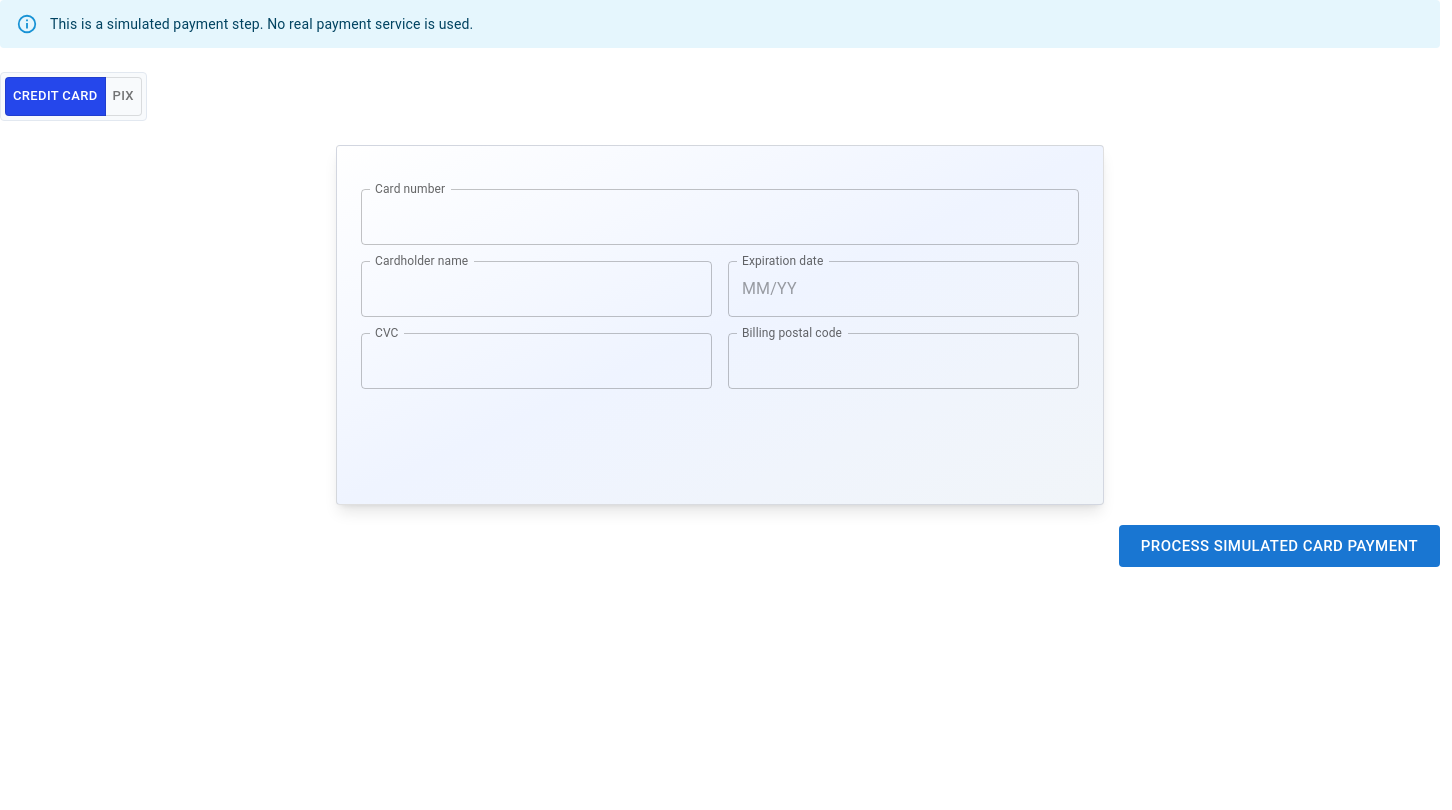
payment UI › shows a warning when simulated card processing is refused
Type "Alex Test" into the field labelled "Cardholder name" at (536, 289), box 361,261 -> 712,317
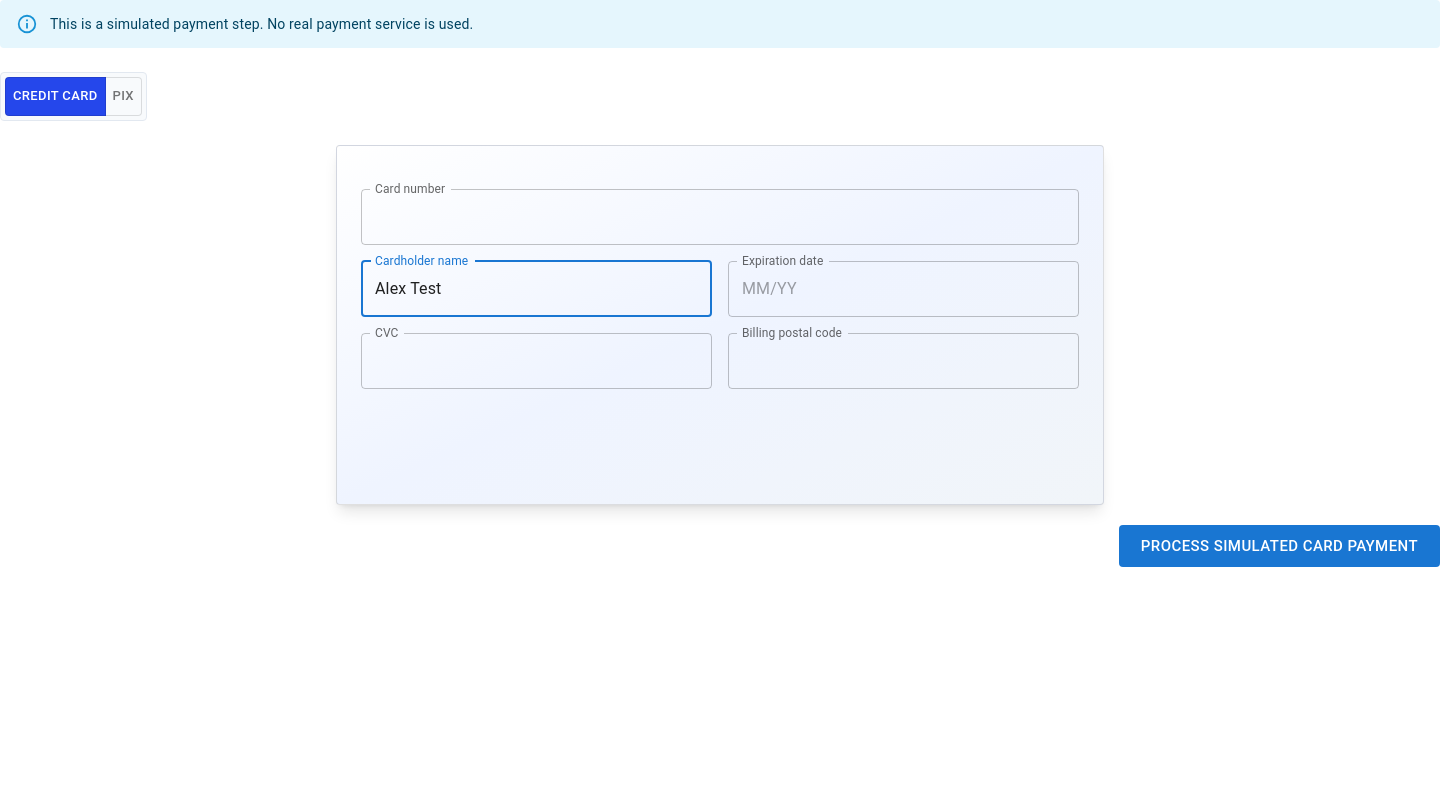
Type "4111111111111111" into the field labelled "Card number" at (720, 217), box 361,189 -> 1079,245
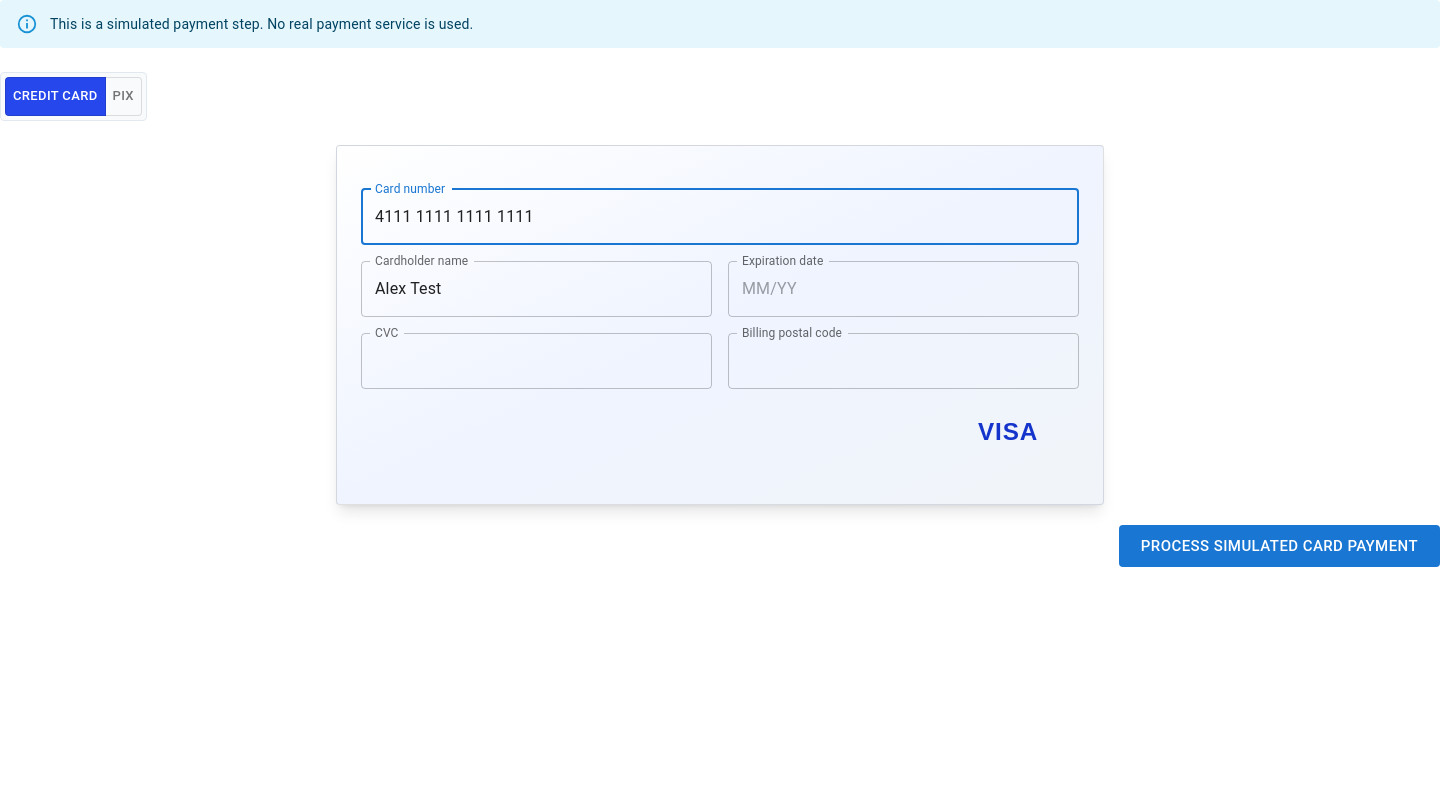
Type "12/35" into the field labelled "Expiration date" at (904, 289), box 728,261 -> 1079,317
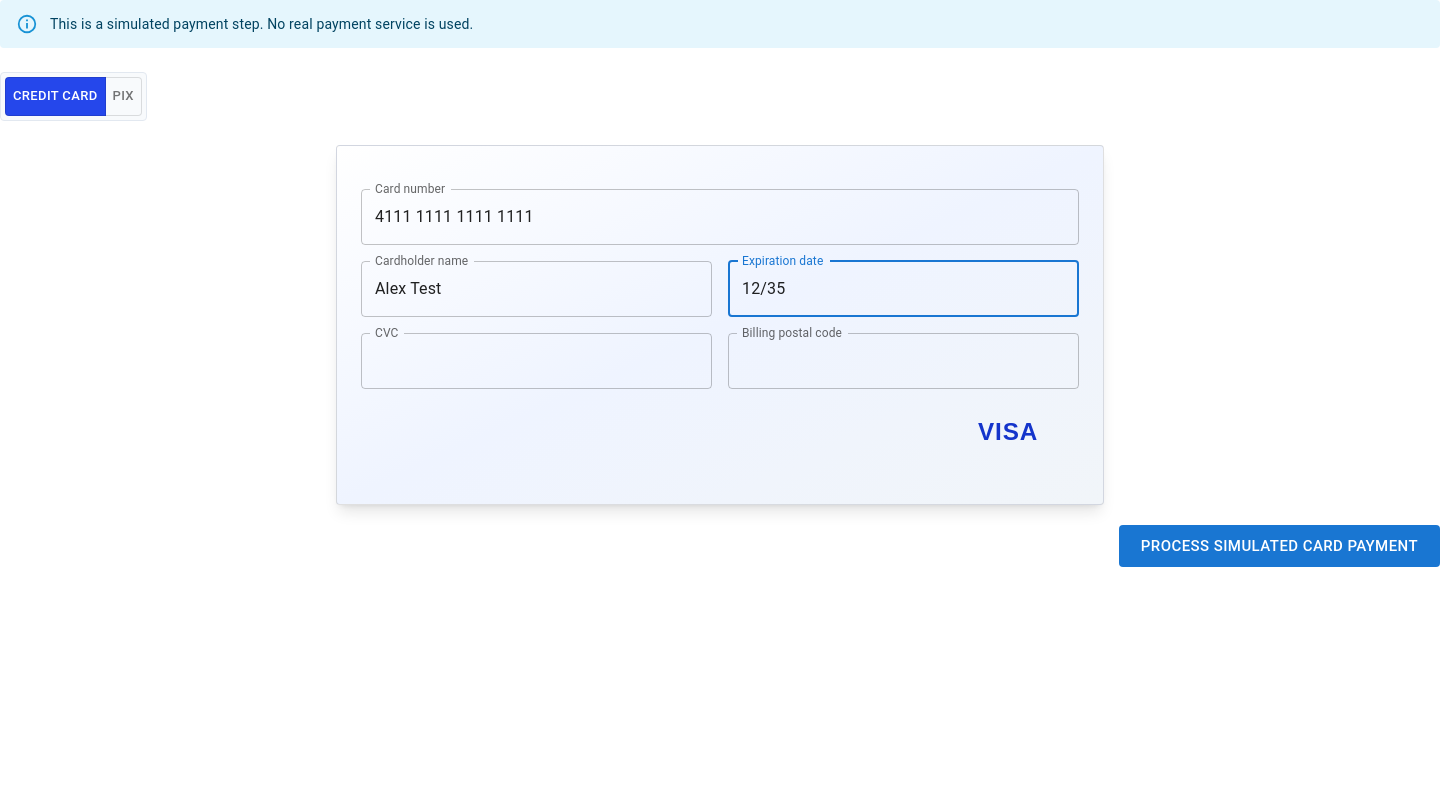
Type "123" into the password field labelled "CVC" at (536, 361), box 361,333 -> 712,389
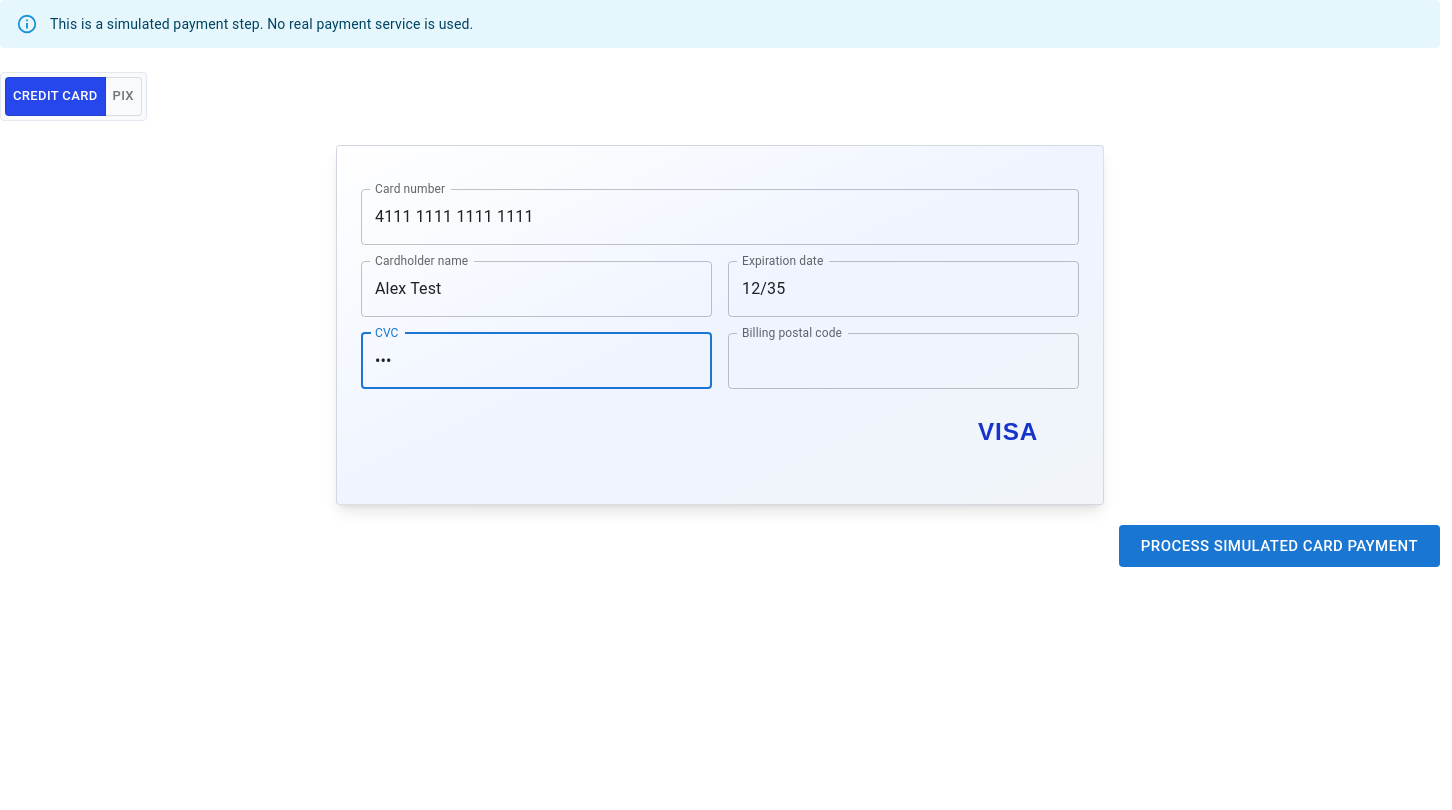
Type "10001" into the field labelled "Billing postal code" at (904, 361), box 728,333 -> 1079,389
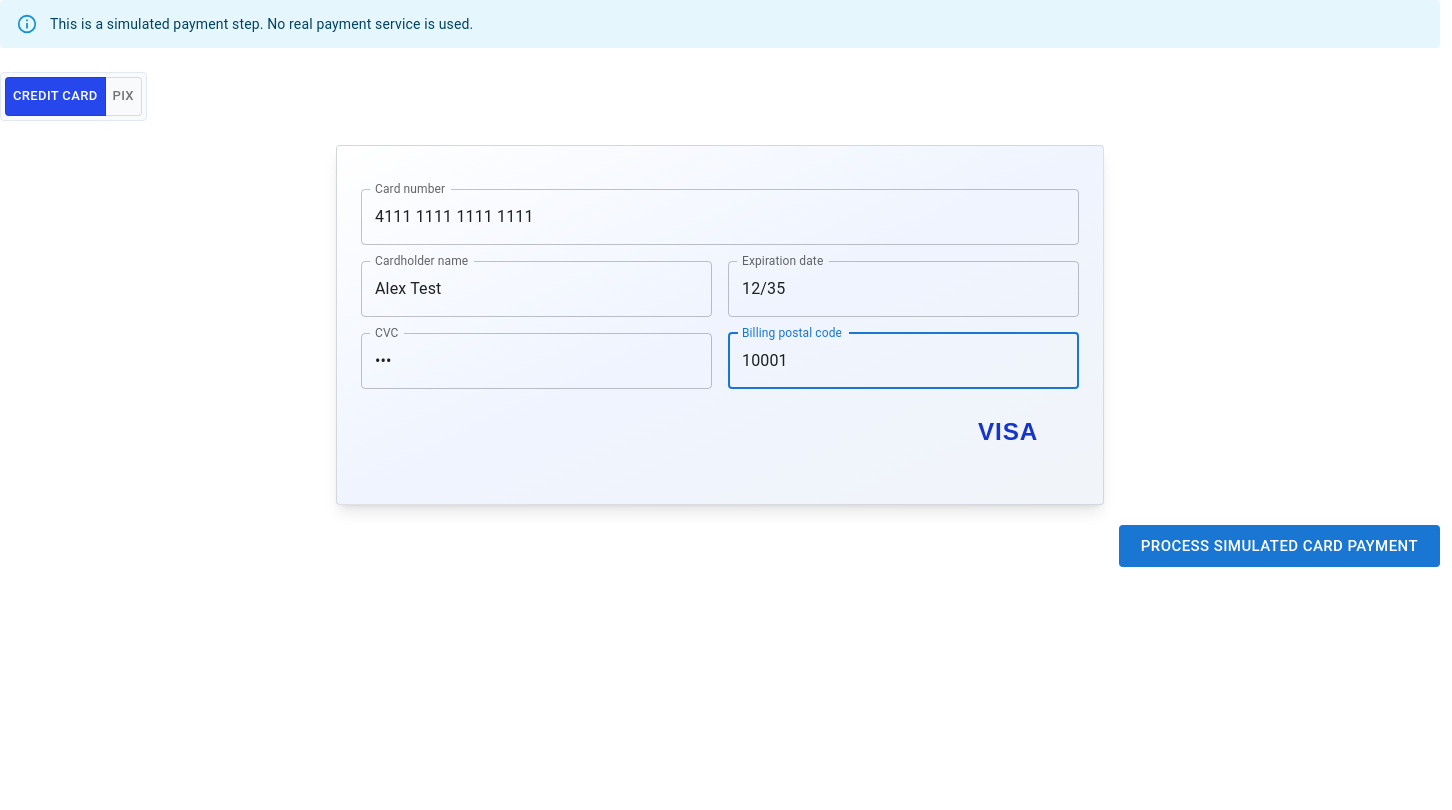
Click the button "Process simulated card payment" at (1279, 546), box 1119,525 -> 1440,567
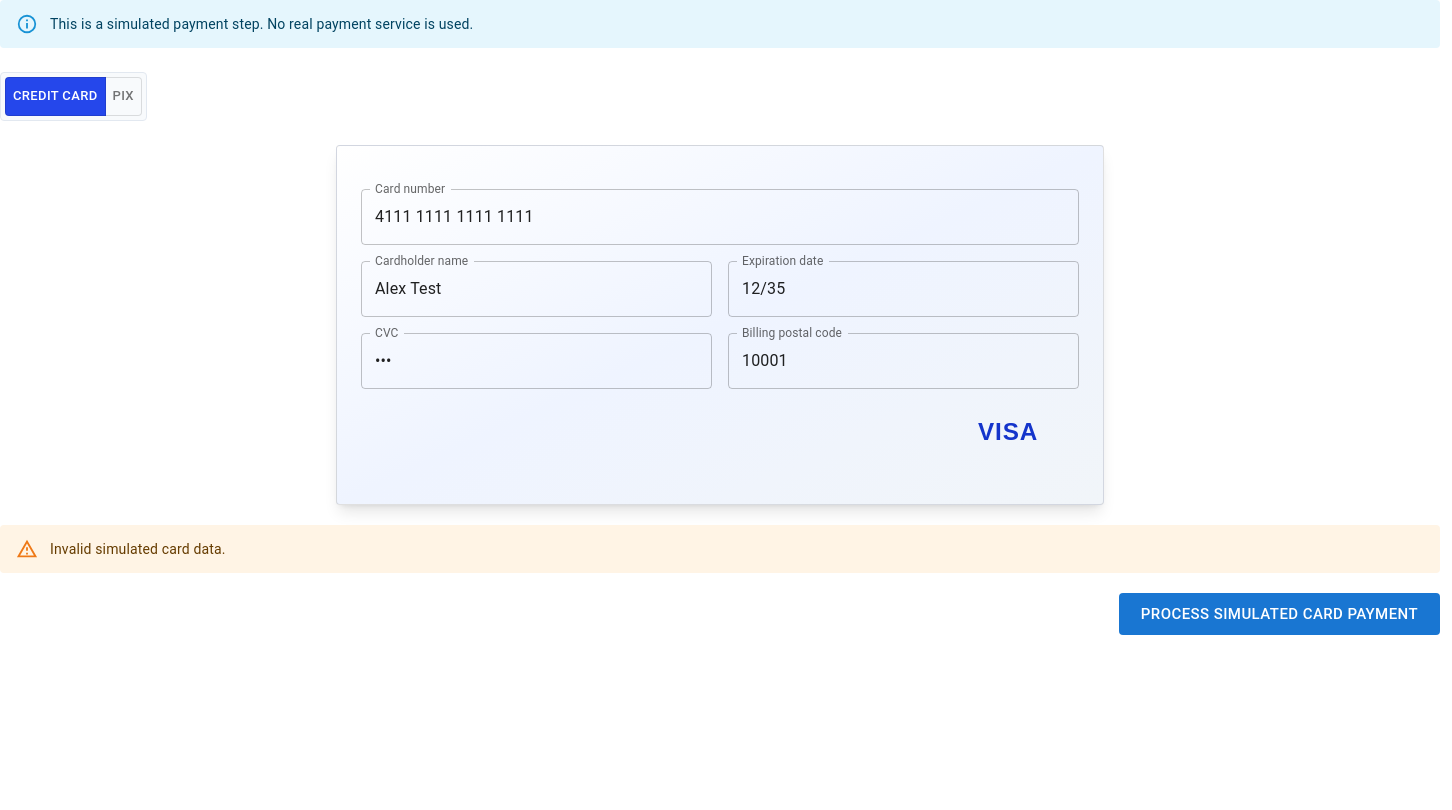
Result: the text "Invalid simulated card data." is shown at 50,541 -> 226,557
